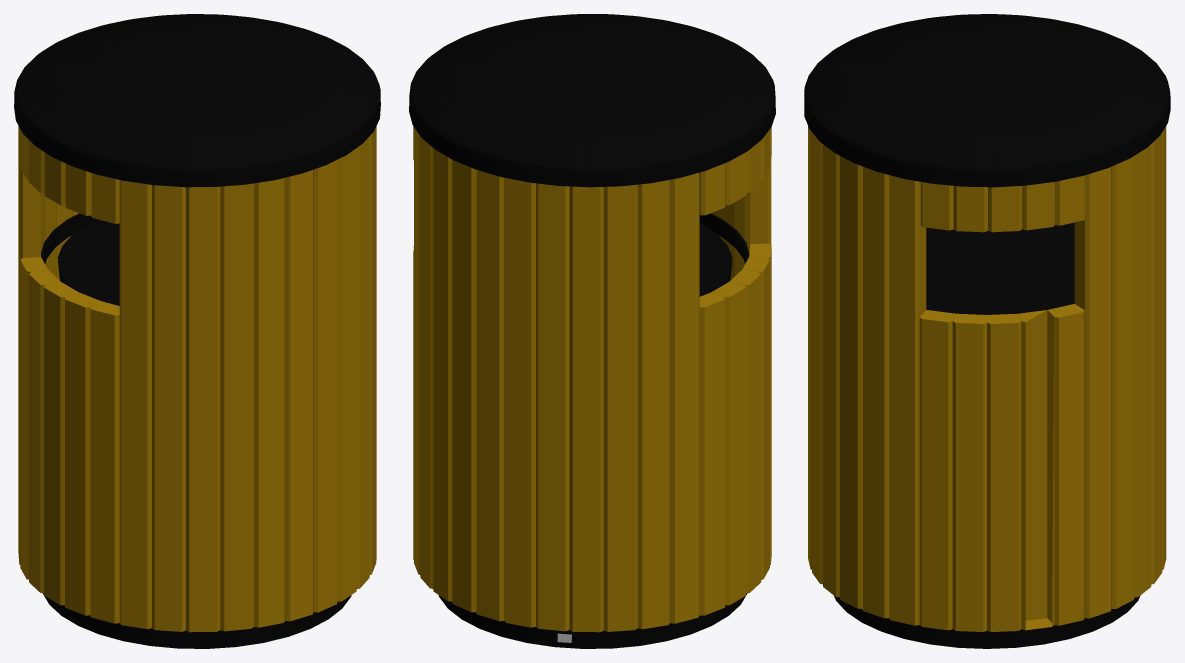
3 renders of one model, left to right at view 1: azimuth 30°, elevation 25°; view 2: azimuth 150°, elevation 25°; view 3: azimuth 270°, elevation 25°, orthographic.
Parts seen in each view (by area): view 1: mesh1.002_mesh1-geometry, mesh20.036_mesh20-geometry, mesh20.037_mesh20-geometry, mesh20.035_mesh20-geometry, mesh20.034_mesh20-geometry, mesh20.038_mesh20-geometry, mesh20.039_mesh20-geometry, mesh20.040_mesh20-geometry, mesh22.020_mesh22-geometry, mesh20.041_mesh20-geometry, mesh22.014_mesh22-geometry, mesh22.013_mesh22-geometry (+13 smaller); view 2: mesh1.002_mesh1-geometry, mesh20.031_mesh20-geometry, mesh20.030_mesh20-geometry, mesh20.029_mesh20-geometry, mesh20.032_mesh20-geometry, mesh20.028_mesh20-geometry, mesh20.033_mesh20-geometry, mesh20.027_mesh20-geometry, mesh20.026_mesh20-geometry, mesh20.025_mesh20-geometry, mesh22.011_mesh22-geometry, mesh22.012_mesh22-geometry (+13 smaller); view 3: mesh1.002_mesh1-geometry, mesh20.044_mesh20-geometry, mesh20.023_mesh20-geometry, mesh20.043_mesh20-geometry, mesh24.002_mesh24-geometry, mesh22.017_mesh22-geometry, mesh22.016_mesh22-geometry, mesh22.015_mesh22-geometry, mesh22.018_mesh22-geometry, mesh20.024_mesh20-geometry, mesh20.042_mesh20-geometry, mesh22.019_mesh22-geometry (+12 smaller).
Boxes of the visible parts, <box> form: mesh1.002_mesh1-geometry: <box>14,14,380,187</box>; mesh20.036_mesh20-geometry: <box>186,186,220,632</box>; mesh20.037_mesh20-geometry: <box>220,183,253,631</box>; mesh20.035_mesh20-geometry: <box>152,185,185,631</box>; mesh20.034_mesh20-geometry: <box>119,180,151,629</box>; mesh20.038_mesh20-geometry: <box>254,178,285,627</box>; mesh20.039_mesh20-geometry: <box>285,170,313,621</box>; mesh20.040_mesh20-geometry: <box>313,160,337,612</box>; mesh22.020_mesh22-geometry: <box>90,301,119,623</box>; mesh20.041_mesh20-geometry: <box>337,148,356,601</box>; mesh22.014_mesh22-geometry: <box>65,292,100,615</box>; mesh22.013_mesh22-geometry: <box>44,281,78,605</box>; mesh1.002_mesh1-geometry: <box>409,14,775,187</box>; mesh20.031_mesh20-geometry: <box>603,184,637,631</box>; mesh20.030_mesh20-geometry: <box>569,186,603,632</box>; mesh20.029_mesh20-geometry: <box>536,183,569,631</box>; mesh20.032_mesh20-geometry: <box>637,180,669,629</box>; mesh20.028_mesh20-geometry: <box>504,177,535,627</box>; mesh20.033_mesh20-geometry: <box>670,172,699,623</box>; mesh20.027_mesh20-geometry: <box>476,170,504,621</box>; mesh20.026_mesh20-geometry: <box>452,160,476,612</box>; mesh20.025_mesh20-geometry: <box>433,148,452,601</box>; mesh22.011_mesh22-geometry: <box>699,292,724,615</box>; mesh22.012_mesh22-geometry: <box>711,281,745,605</box>; mesh1.002_mesh1-geometry: <box>804,14,1170,187</box>; mesh20.044_mesh20-geometry: <box>889,175,926,625</box>; mesh20.023_mesh20-geometry: <box>1074,167,1111,618</box>; mesh20.043_mesh20-geometry: <box>862,166,889,618</box>; mesh24.002_mesh24-geometry: <box>926,222,1074,314</box>; mesh22.017_mesh22-geometry: <box>987,313,1021,631</box>; mesh22.016_mesh22-geometry: <box>952,313,986,631</box>; mesh22.015_mesh22-geometry: <box>919,310,955,630</box>; mesh22.018_mesh22-geometry: <box>1018,310,1054,630</box>; mesh20.024_mesh20-geometry: <box>1111,156,1133,608</box>; mesh20.042_mesh20-geometry: <box>840,156,862,608</box>; mesh22.019_mesh22-geometry: <box>1048,304,1084,625</box>.
Bounding box in the file's own units: 0.4782 × 0.7369 × 0.4778.
